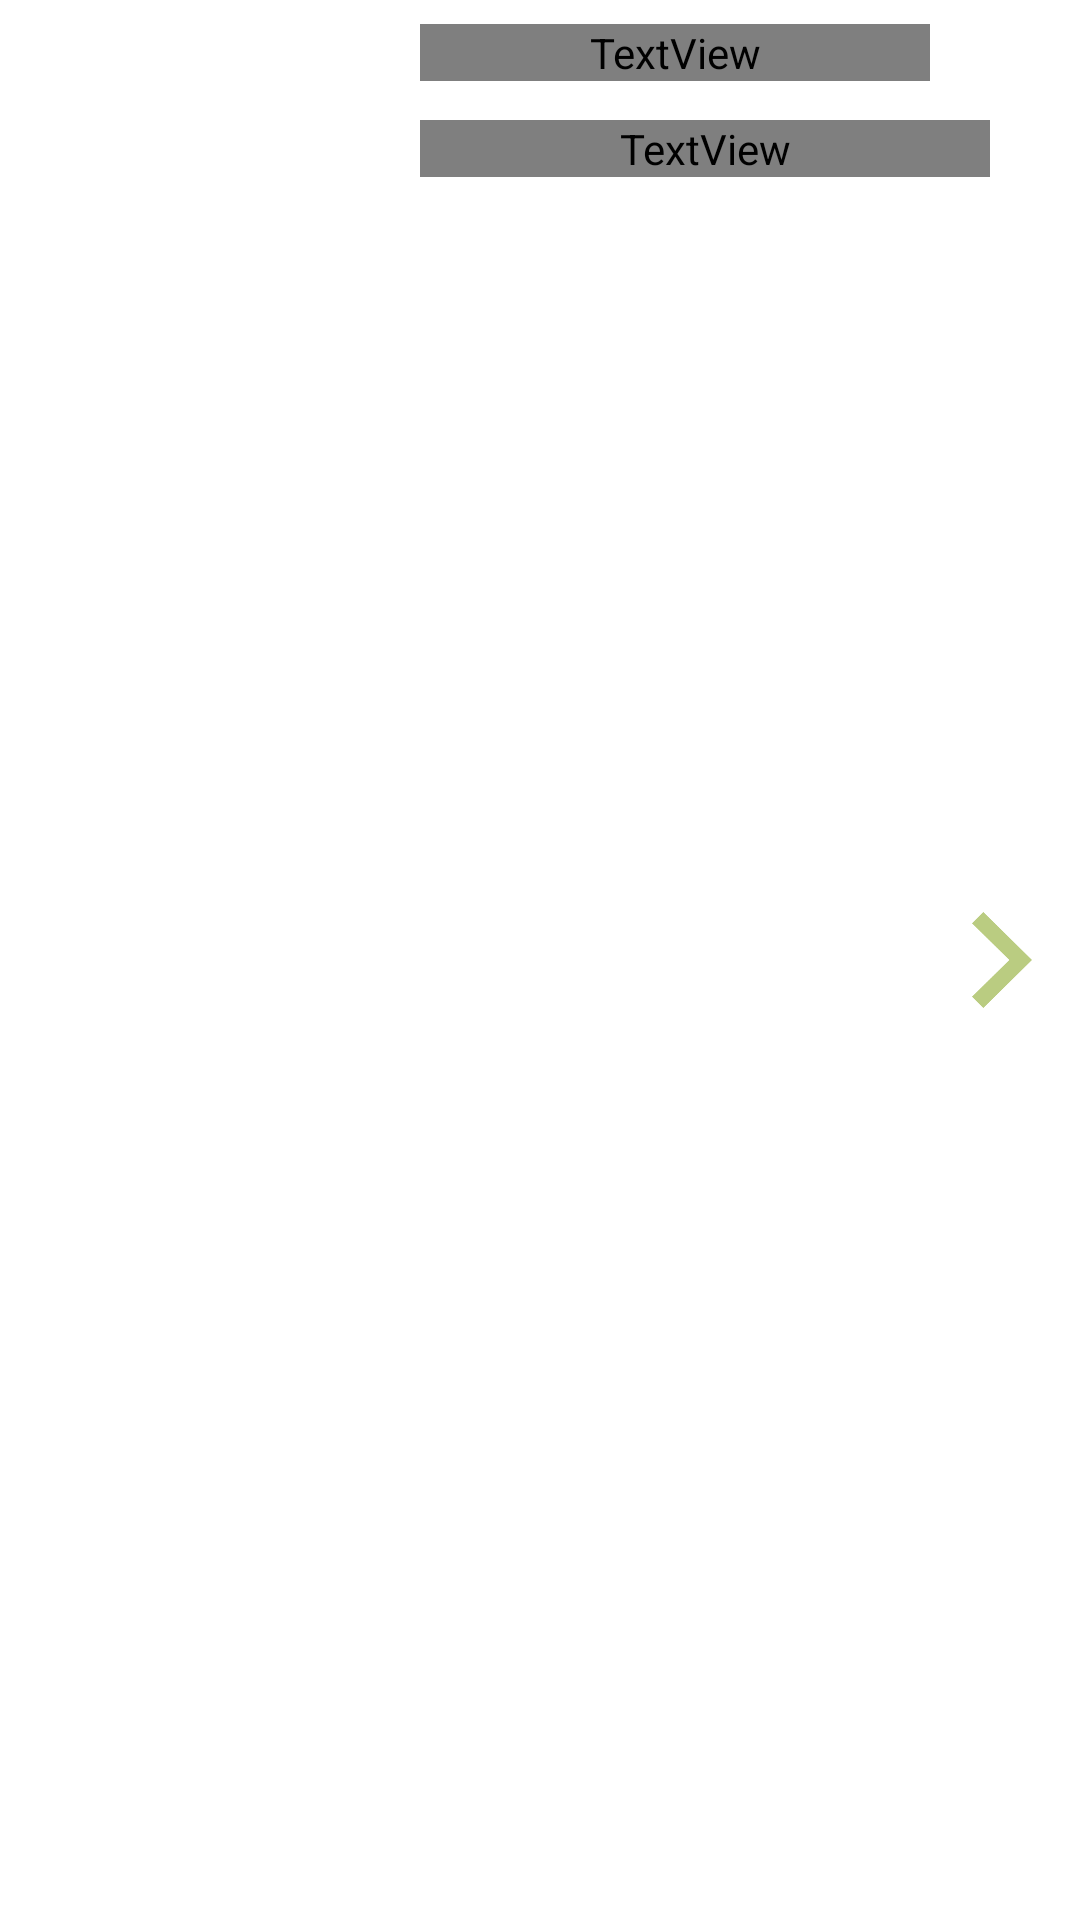

Where icons sit on this 1080 x 1920 app screen, as (x1, y1, x2, y2):
arrow: (972, 912, 1032, 1008)
